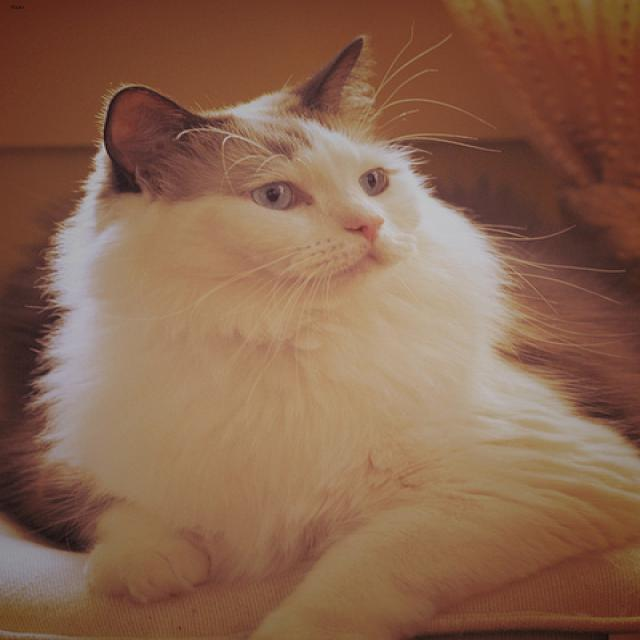Ragdoll: (101, 35, 419, 307)
